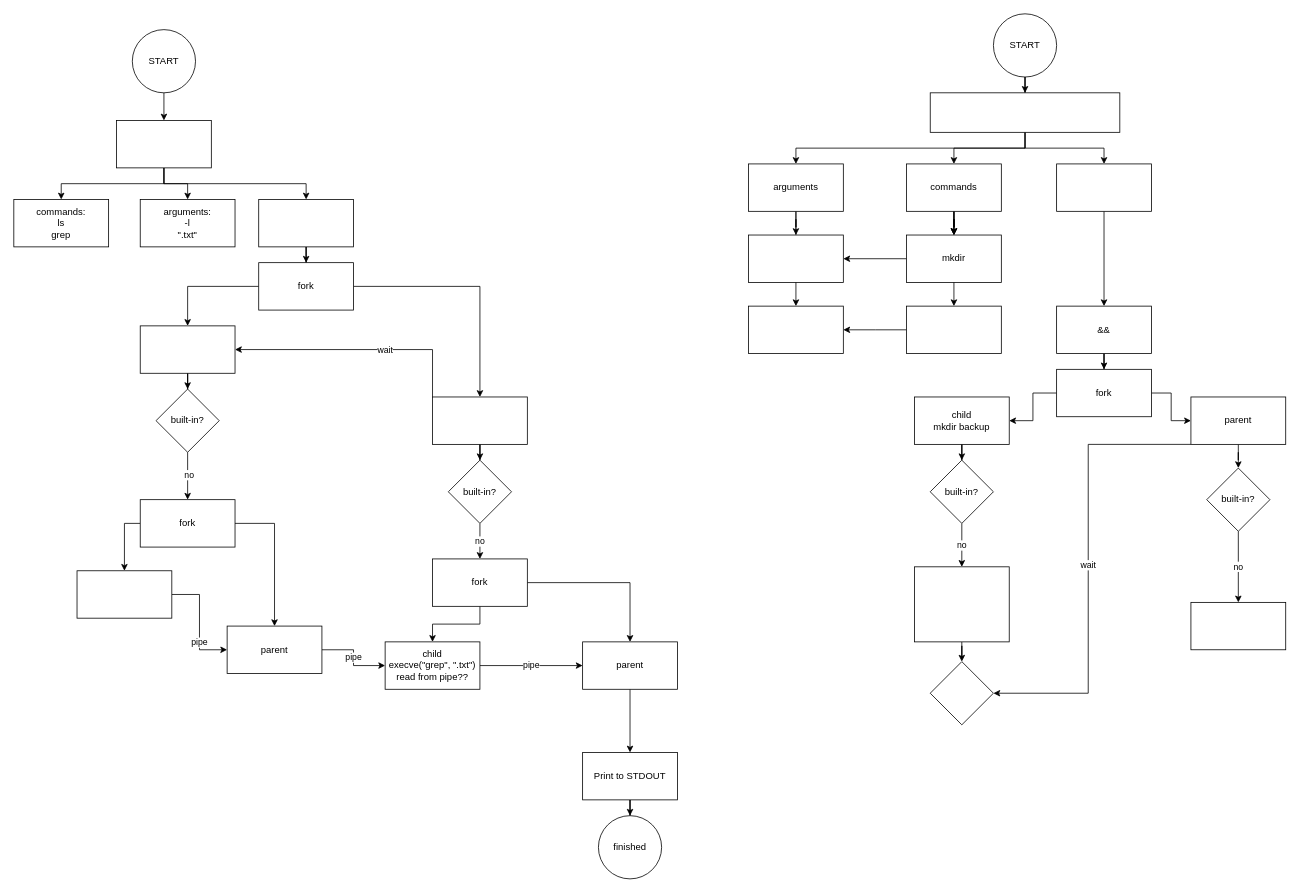
Some shapes in this 1300 by 893 pixel diagram are drawn without their labels. The shapes that lost their labels are listed below. From the top down, each one's centre as x and y in pixels, then its label:
(x=1024, y=112): mkdir backup && mv important_file.txt backup/
(x=163, y=144): ls -l | grep ".txt"
(x=1103, y=187): operators:
(x=306, y=223): operators: |
(x=795, y=258): "backup"
(x=187, y=349): child ls -l
(x=795, y=329): "important_file.txt" "backup/"
(x=953, y=329): mv
(x=479, y=420): parent: grep ".txt"
(x=124, y=594): child execve("ls", "-l") using PATH
(x=961, y=604): fork execve mkdir "backup"
(x=961, y=693): succesfull?
